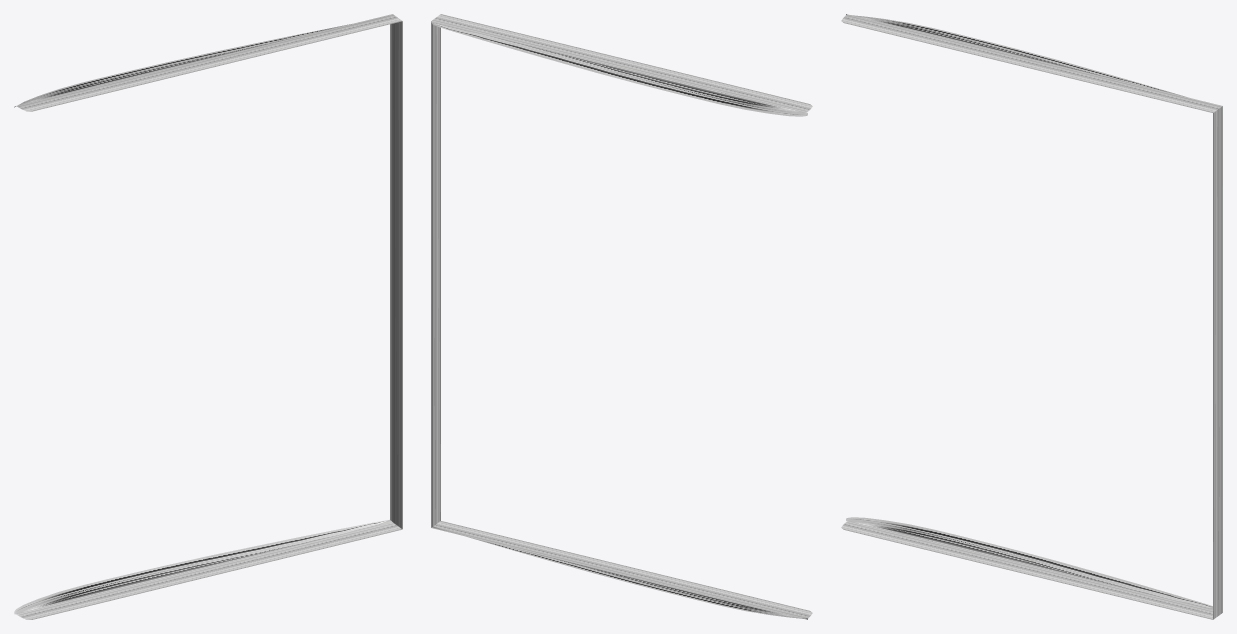
The model's file is MeshBookFront_14_1_GeomSubset_1.obj.
3 views of the same model, side by side, from view 1: azimuth 30°, elevation 25°; view 2: azimuth 150°, elevation 25°; view 3: azimuth 330°, elevation 25° (orthographic).
Parts seen in each view (by area): view 1: MeshBookFront_14_1_GeomSubset_1; view 2: MeshBookFront_14_1_GeomSubset_1; view 3: MeshBookFront_14_1_GeomSubset_1.
Part boxes in pixels (<box>): MeshBookFront_14_1_GeomSubset_1: <box>14,14,402,619</box>; MeshBookFront_14_1_GeomSubset_1: <box>431,14,812,619</box>; MeshBookFront_14_1_GeomSubset_1: <box>841,14,1222,619</box>.
Size of the model in its own units: 0.1462 by 0.1878 by 0.0135.
